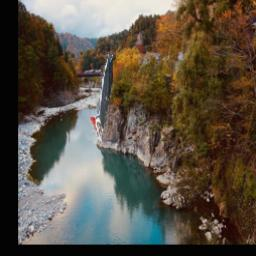Woodpecker: (89, 52, 113, 148)
